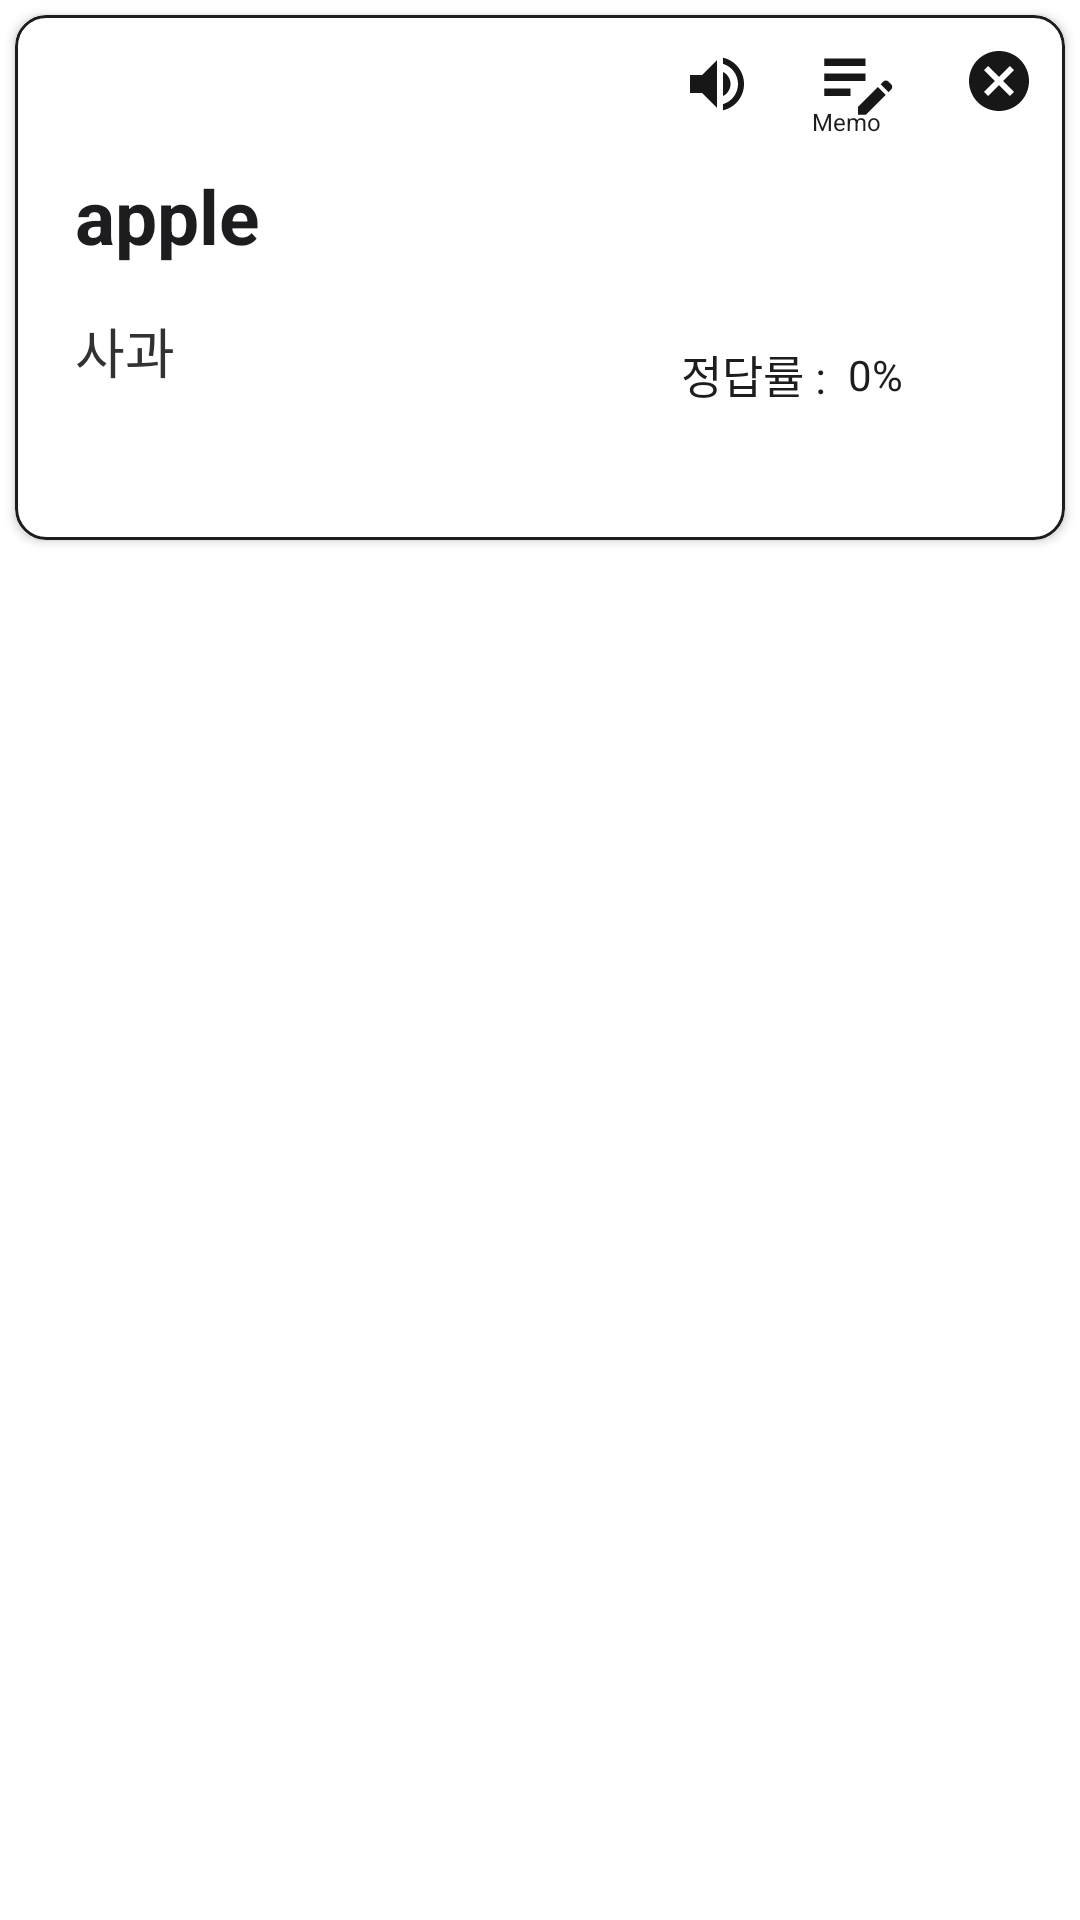

Named icons in this screenshot (1080px x 1920px) and their bounding boxes, (x1, y1, x2, y2):
cancel: (969, 51, 1029, 111)
volume up: (690, 57, 744, 111)
